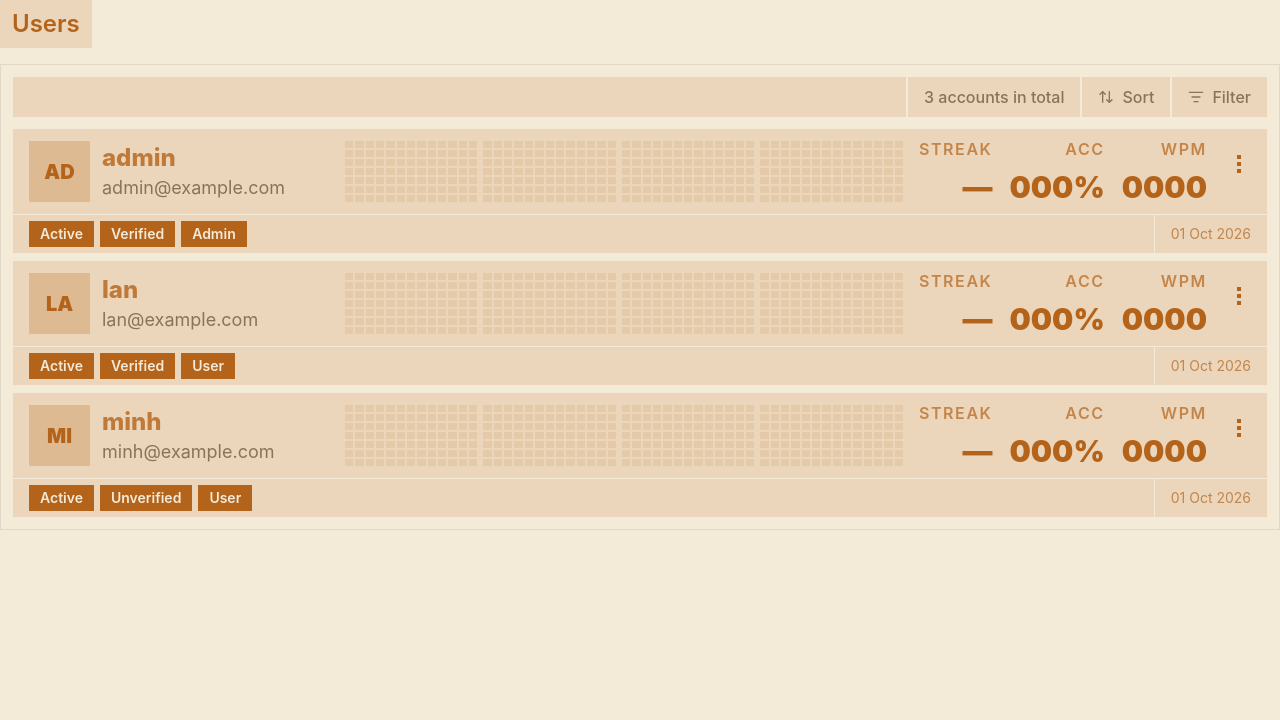
it: AdminUsersPage › edits a user from the kebab menu of the card
This screenshot has width=1280, height=720.
Click the button named "Actions for minh@example.com": (1239, 428) [1223,412,1255,444]
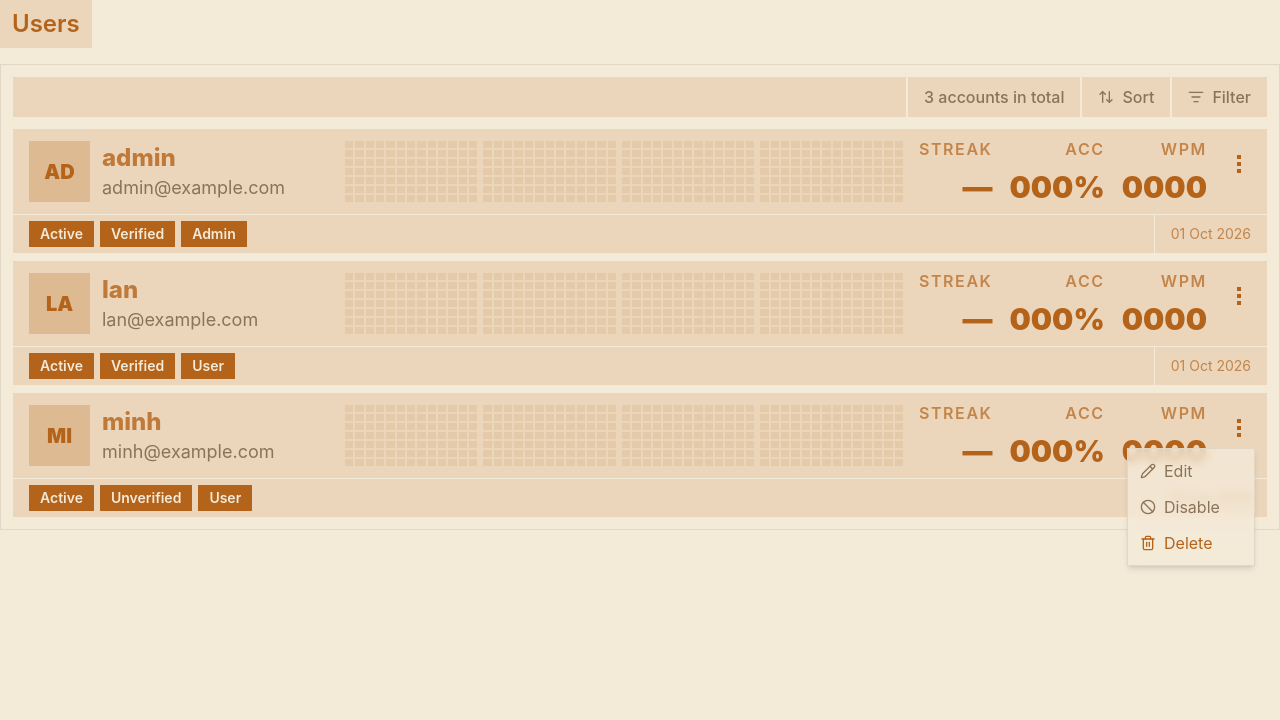
Click the menu item "Edit": (1166, 471) [1140,461,1192,481]
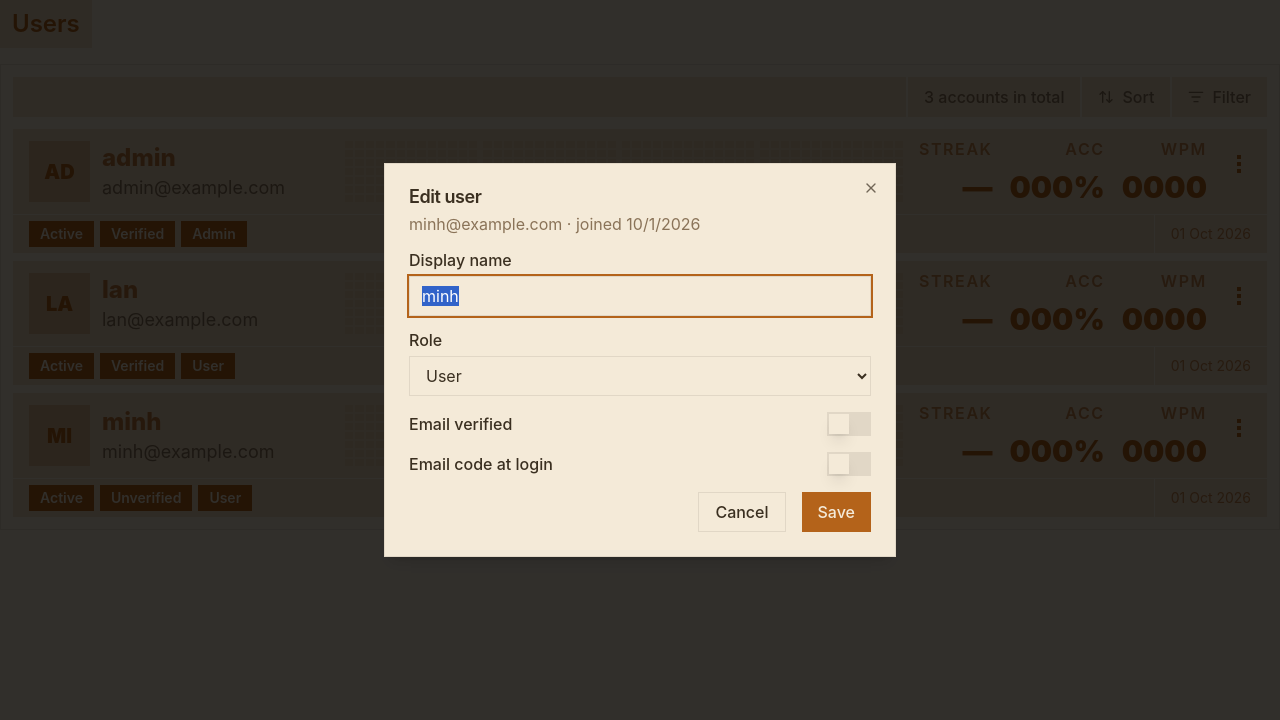
Expected: the dialog is shown, [384,163,896,557]
